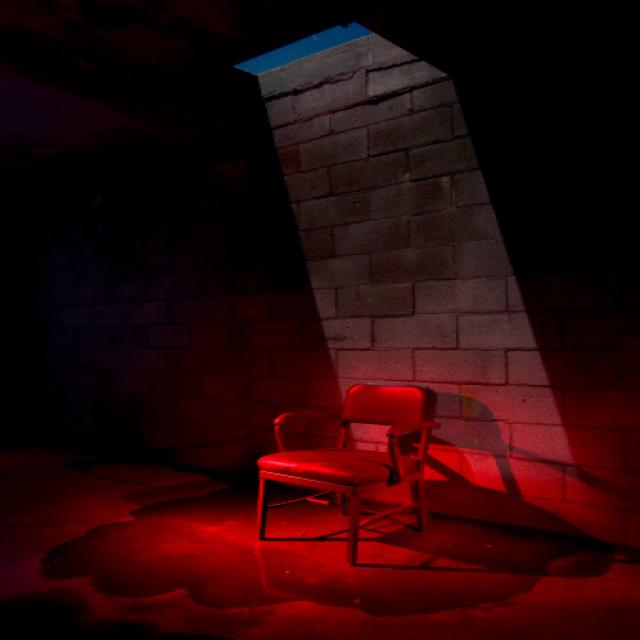chair: (234, 348, 506, 549)
